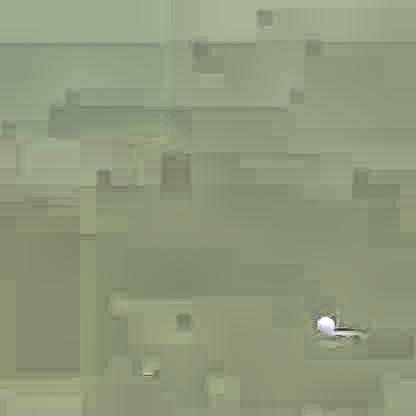golfball: (314, 315, 333, 333)
